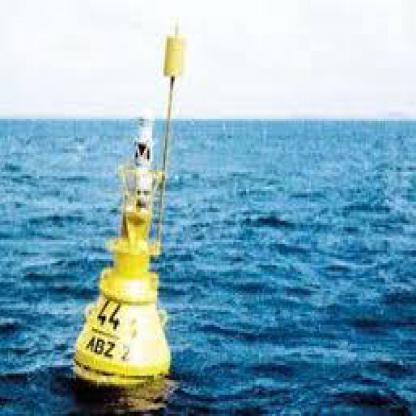buoy: (66, 11, 201, 399)
